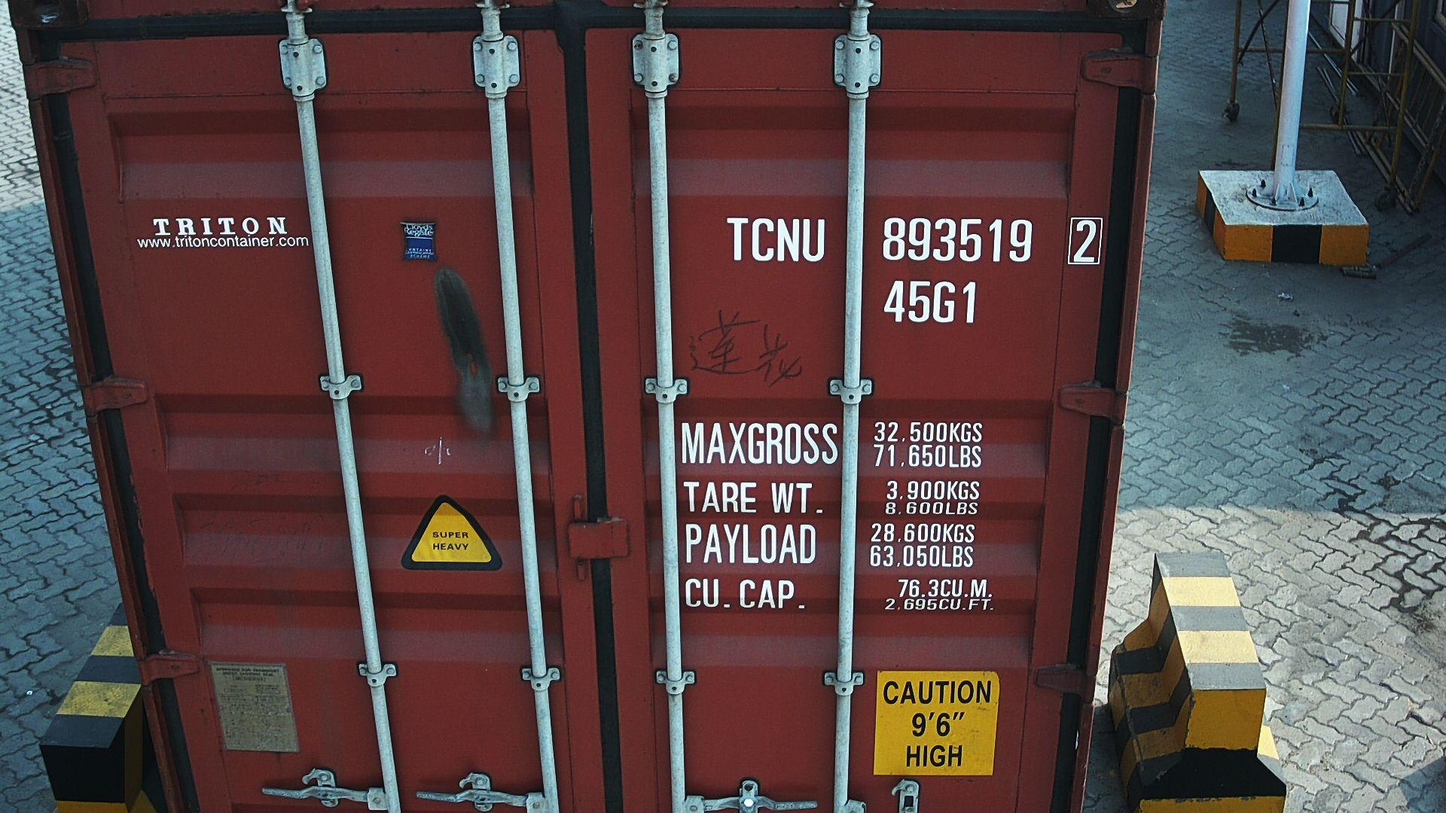container-numbers: (721, 211, 1107, 269), (880, 277, 983, 327)
